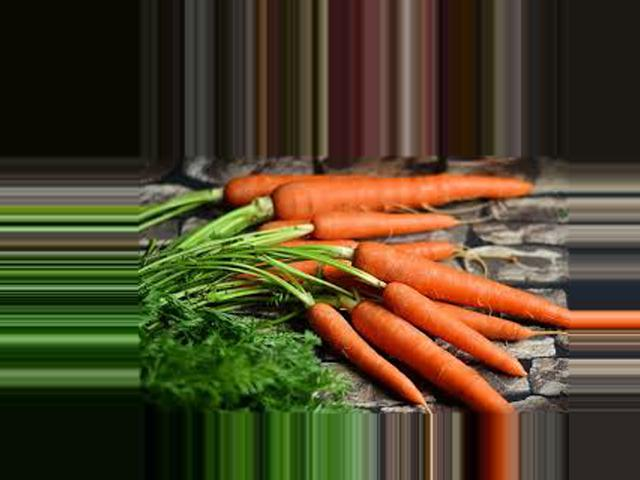carrot: (300, 301, 416, 403)
